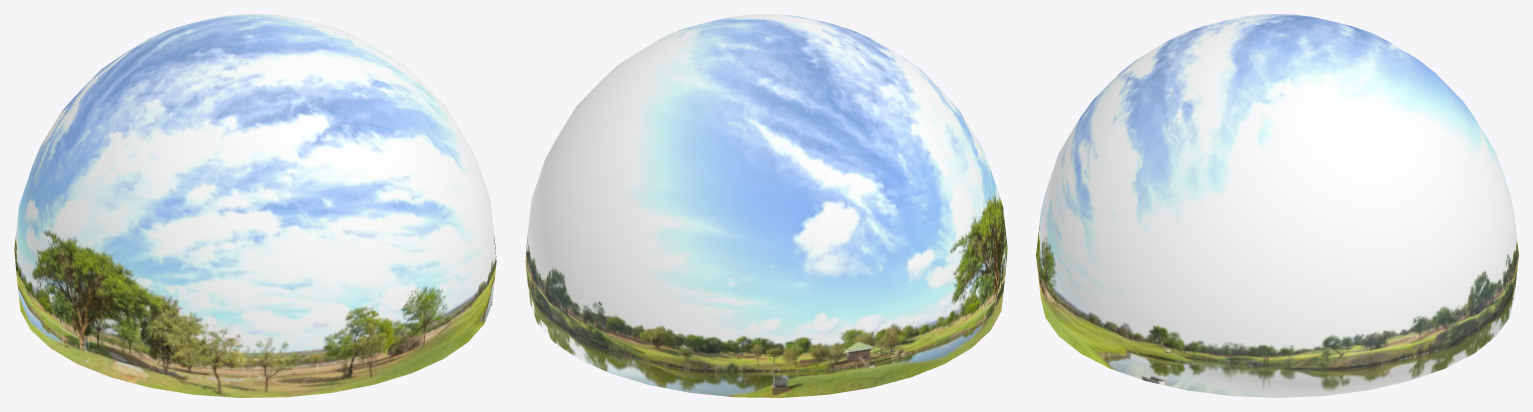
Rendered from Petal pavilion.glb.
3 views of the same model, side by side, from view 1: azimuth 30°, elevation 25°; view 2: azimuth 150°, elevation 25°; view 3: azimuth 270°, elevation 25° (orthographic).
Visible parts, largest first — view 1: Sphere; view 2: Sphere; view 3: Sphere.
Part boxes in pixels (left/top/right/bottom): Sphere: left=14, top=14, right=496, bottom=397; Sphere: left=525, top=14, right=1007, bottom=397; Sphere: left=1036, top=14, right=1518, bottom=397.
Size of the model in its own units: 51.36 by 30.69 by 51.36.
Materials: 16 (9 with a texture image).
